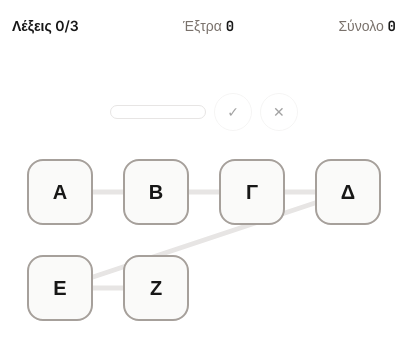
Test: LeksoplegmaBoard › does not auto-submit or advance a tap trace that spells no word
Click the button "δ" at (348, 192), box top-left (315, 159), bottom-right (381, 225)
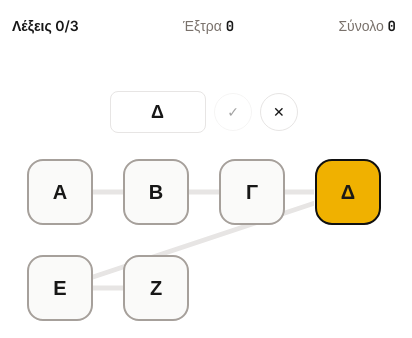
Click the button named "Γράμμα ε" at (60, 288), box top-left (27, 255), bottom-right (93, 321)
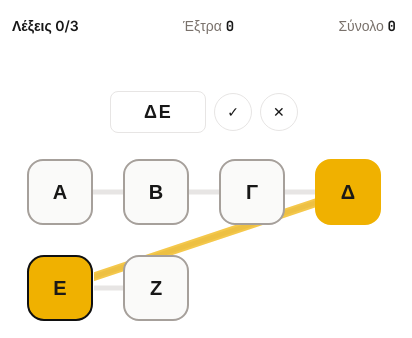
Expected: the text "Λέξεις 0/3" is shown, top-left (12, 16), bottom-right (79, 36)
Expected: the text with test id "building-word" reads "δε", top-left (144, 101), bottom-right (172, 122)
